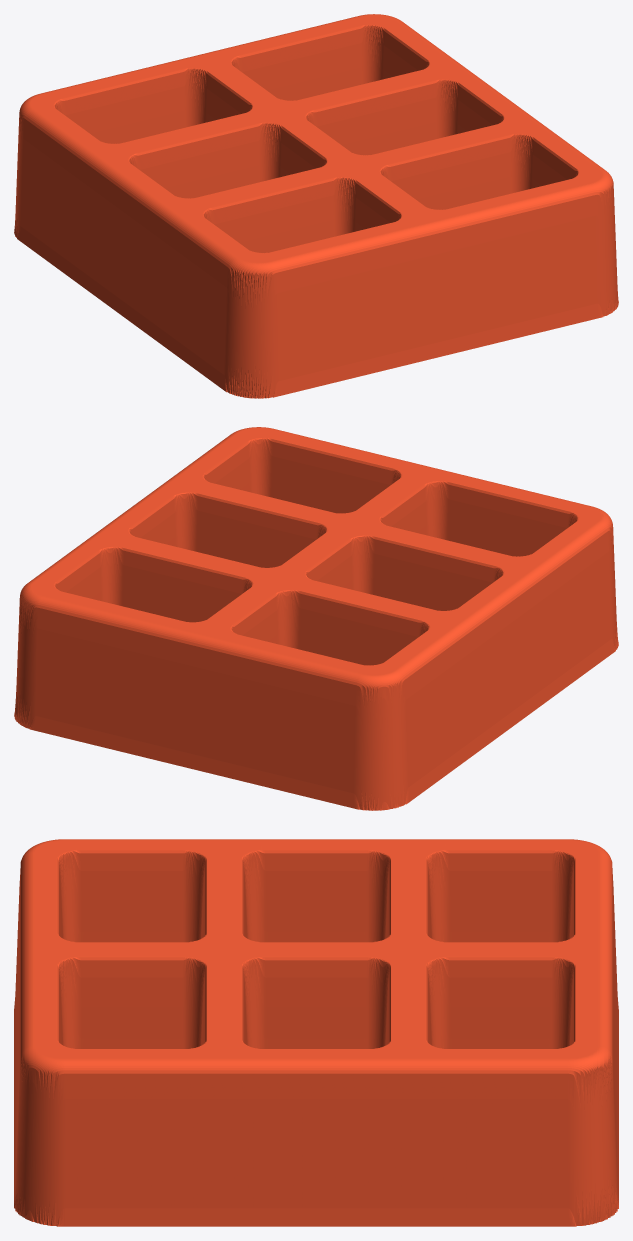
The model's file is mold.glb.
The picture shows the model from 3 angles, top to bottom: view 1: azimuth 30°, elevation 25°; view 2: azimuth 150°, elevation 25°; view 3: azimuth 270°, elevation 25°; orthographic projection. The views are drawn at different scales.
Visible parts, largest first — view 1: geometry_0; view 2: geometry_0; view 3: geometry_0.
Part boxes in pixels (bbox=[...]): geometry_0: bbox=[14, 14, 618, 398]; geometry_0: bbox=[14, 427, 618, 810]; geometry_0: bbox=[14, 839, 618, 1226].
Size of the model in its own units: 0.0996 by 0.0314 by 0.1081.
